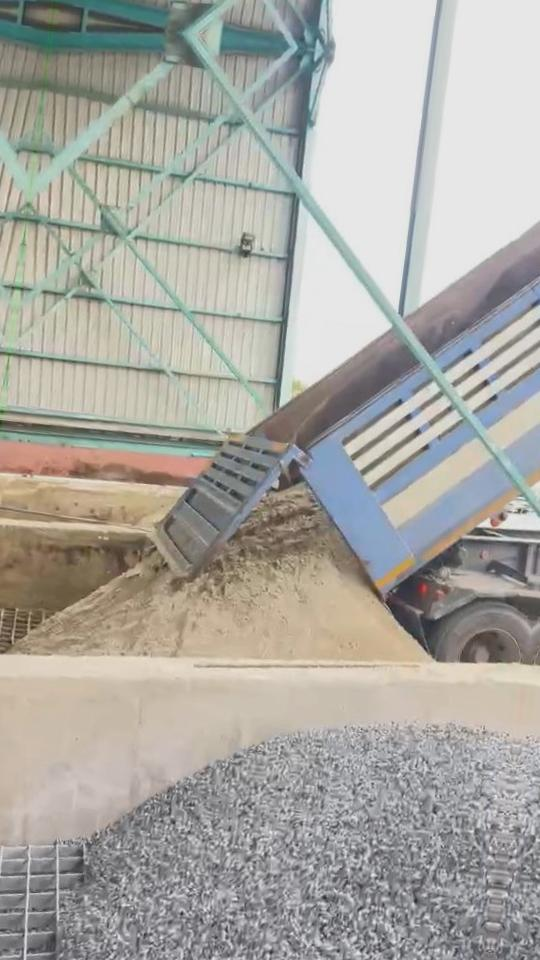gravel: (38, 726, 517, 960)
sand: (14, 489, 430, 660)
